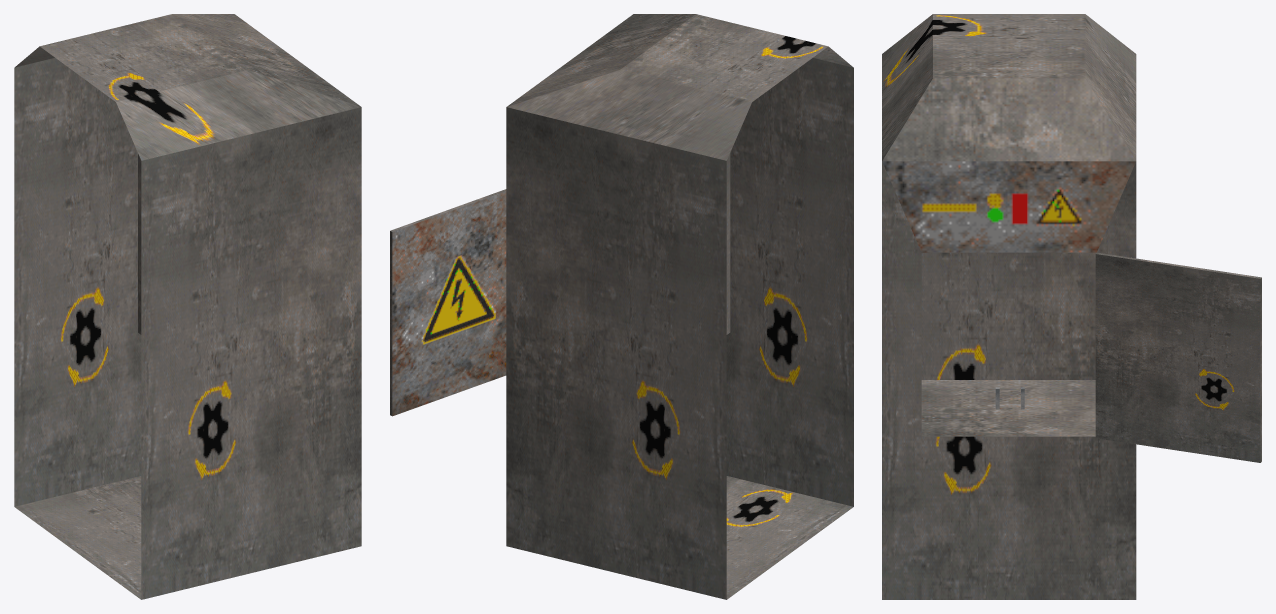
File: FuseBox1.fbx
3 renders of one model, left to right at view 1: azimuth 30°, elevation 25°; view 2: azimuth 150°, elevation 25°; view 3: azimuth 270°, elevation 25°, orthographic.
Visible parts, largest first — view 1: FuseBox; view 2: FuseBox, FuseBox_door; view 3: FuseBox, FuseBox_door.
Part boxes in pixels (left/top/right/bottom): FuseBox: left=14, top=14, right=361, bottom=599; FuseBox: left=506, top=14, right=853, bottom=599; FuseBox_door: left=390, top=189, right=506, bottom=416; FuseBox: left=882, top=14, right=1136, bottom=599; FuseBox_door: left=1095, top=252, right=1261, bottom=462.
Bounding box in the file's own units: 172 × 287 × 207.
1 material, 1 textured.
